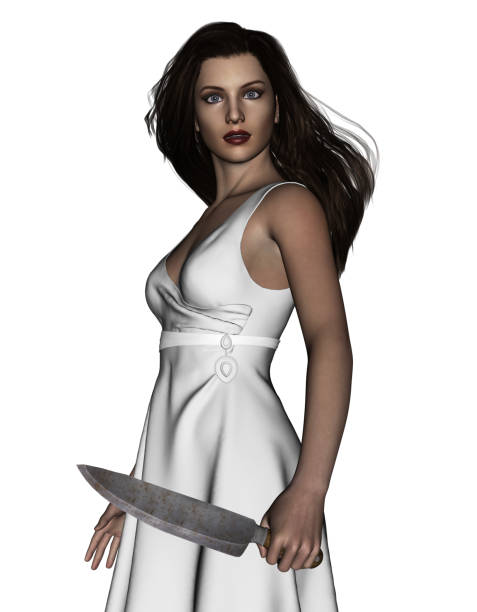knife: (74, 461, 261, 559)
